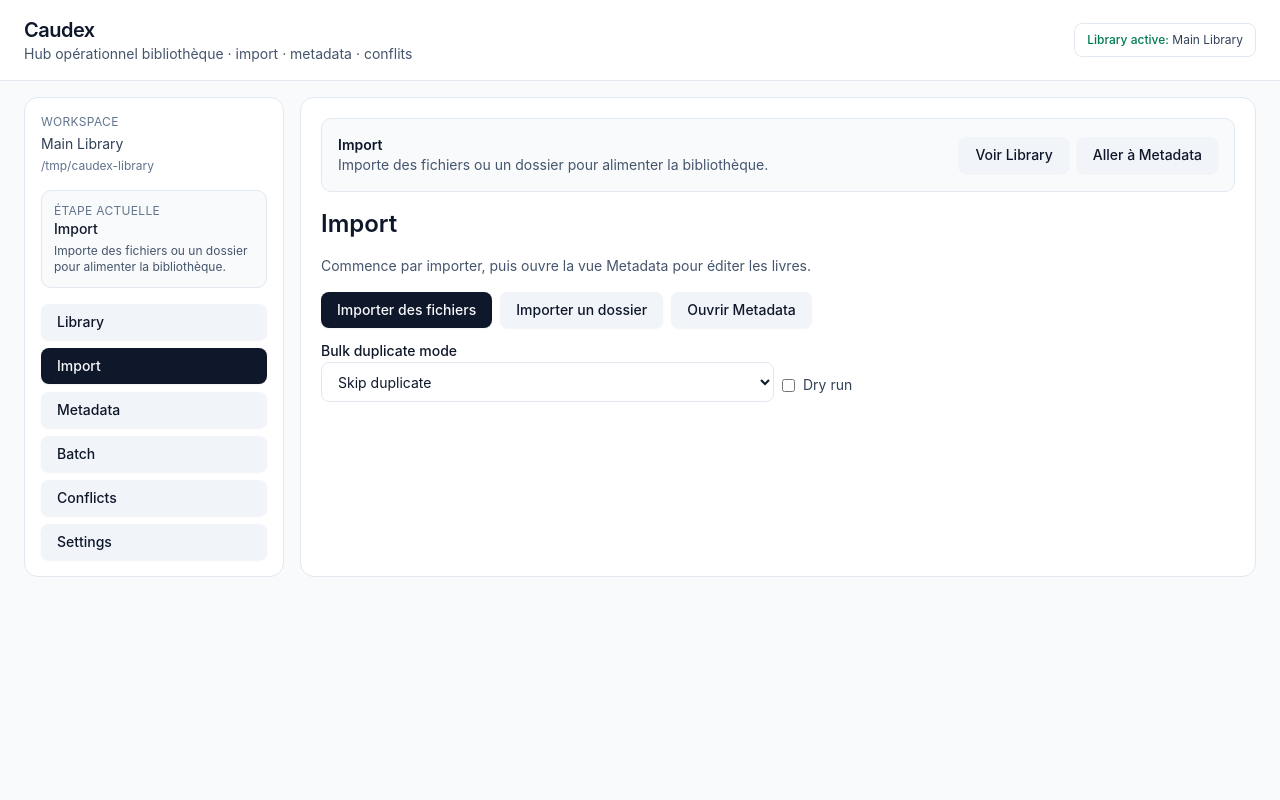
it: workspace flow › restores persisted workspace filters and step
Expected: the heading "Import" is shown, [321,209,397,238]
Click the button "Library" at (154, 322), box [41,304,267,340]
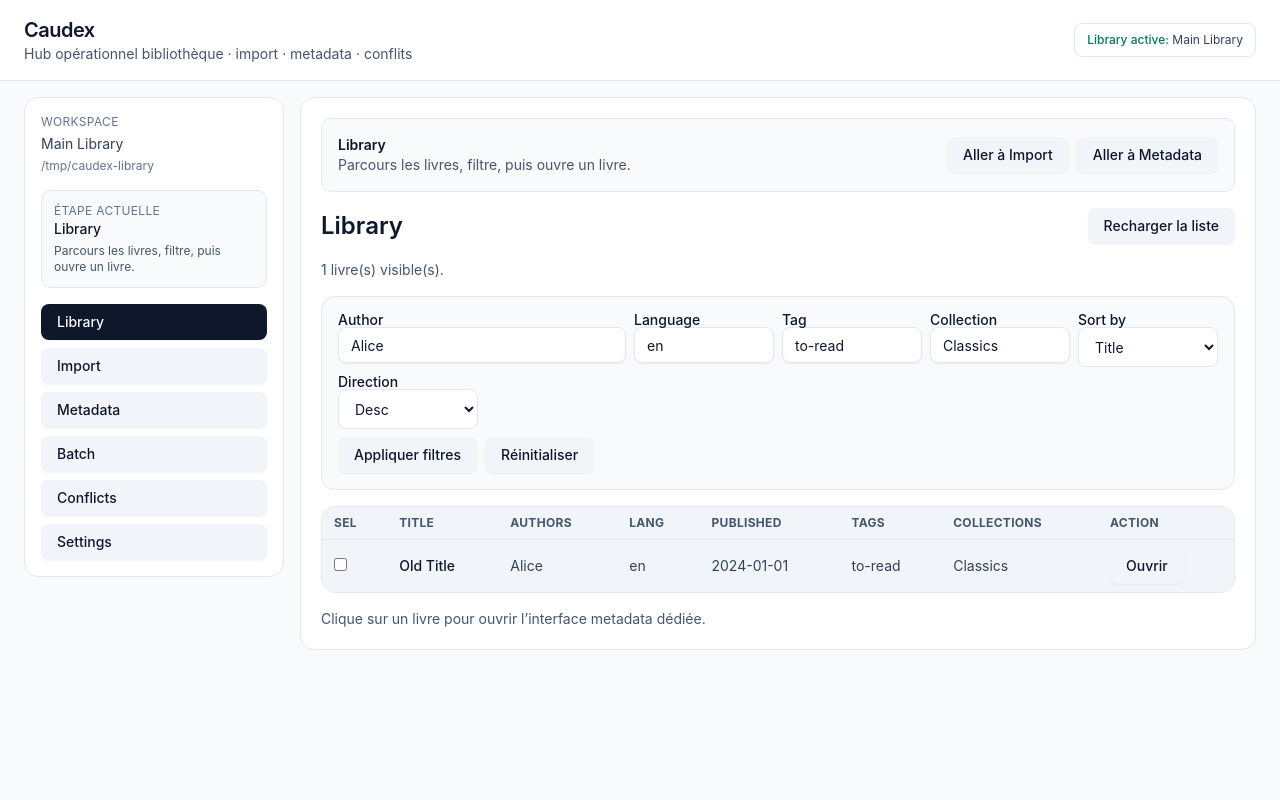
Expected: the field labelled "Author" holds "Alice", [338,327,626,363]
Expected: the field labelled "Language" holds "en", [634,327,774,363]
